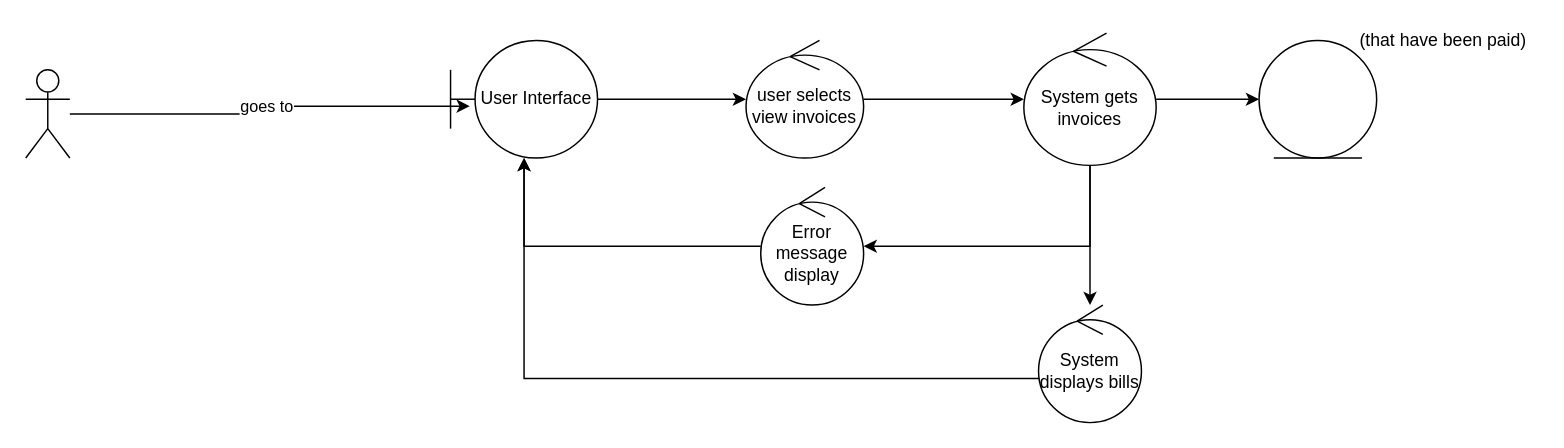
Image size: 1564x448. Some labels were removed from this diagram. Here are the shapes that lost their labels. From the top down, the centre of each, then its label:
the point at 47,113: User
the point at 1317,98: Bill
